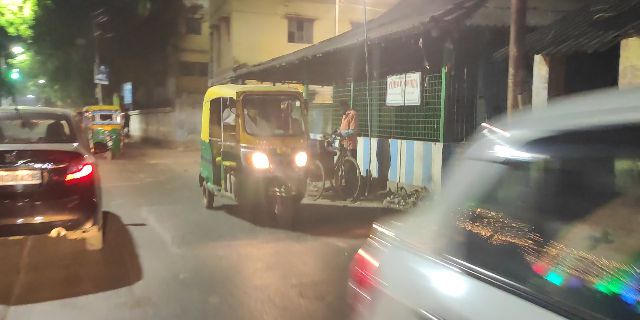Autorickshaw: (202, 74, 317, 227)
Car: (9, 103, 112, 261)
